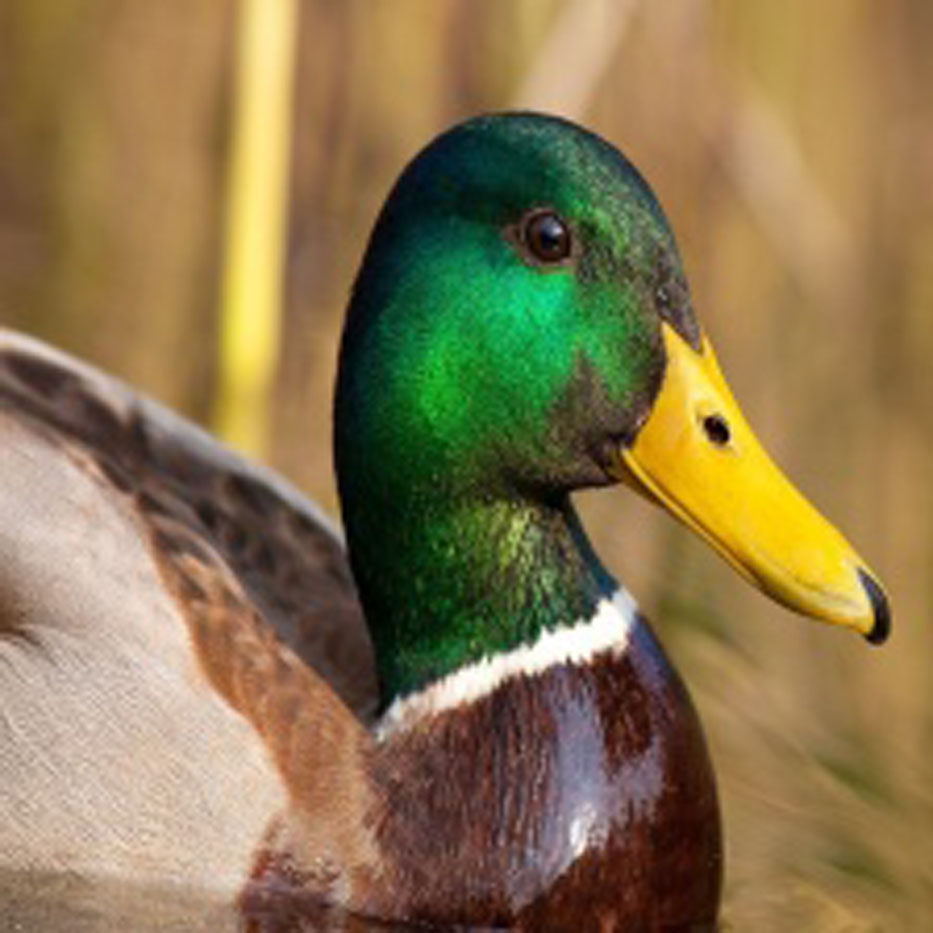Mencari Makan di Lumpur: (633, 339, 931, 685)
